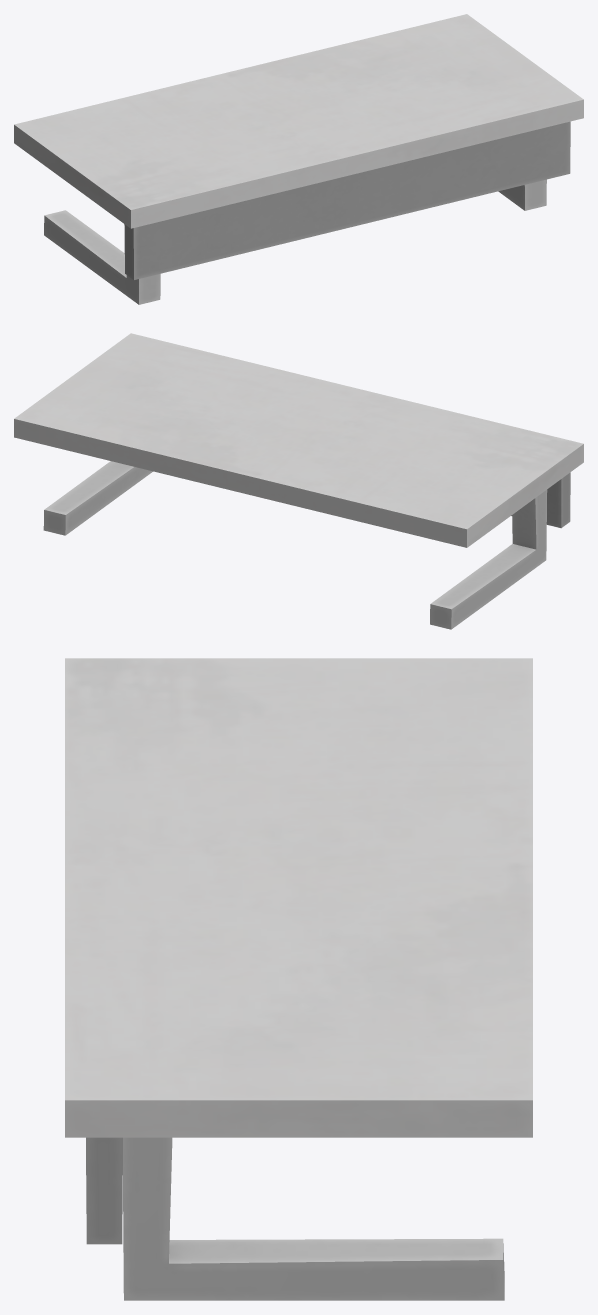
File: Pfb_Table__4.fbx
3 views of the same model, one above another, from view 1: azimuth 30°, elevation 25°; view 2: azimuth 150°, elevation 25°; view 3: azimuth 270°, elevation 25° (orthographic). The views are drawn at different scales.
Visible parts, largest first — view 1: Mat_Table_01_JLAB; view 2: Mat_Table_01_JLAB; view 3: Mat_Table_01_JLAB.
Boxes of the visible parts, <box> form: Mat_Table_01_JLAB: <box>14,14,583,304</box>; Mat_Table_01_JLAB: <box>14,333,583,629</box>; Mat_Table_01_JLAB: <box>65,658,532,1300</box>.
Bounding box in the file's own units: 2.78 × 0.6523 × 1.24.
Materials: 1 (1 with a texture image).
